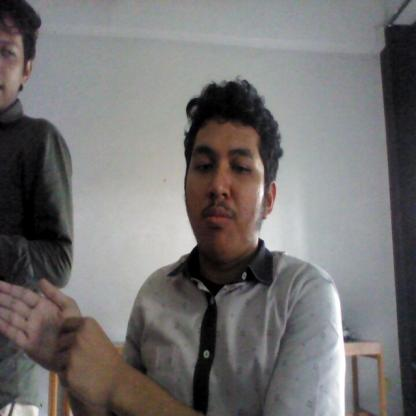Nama: (0, 278, 120, 395)
